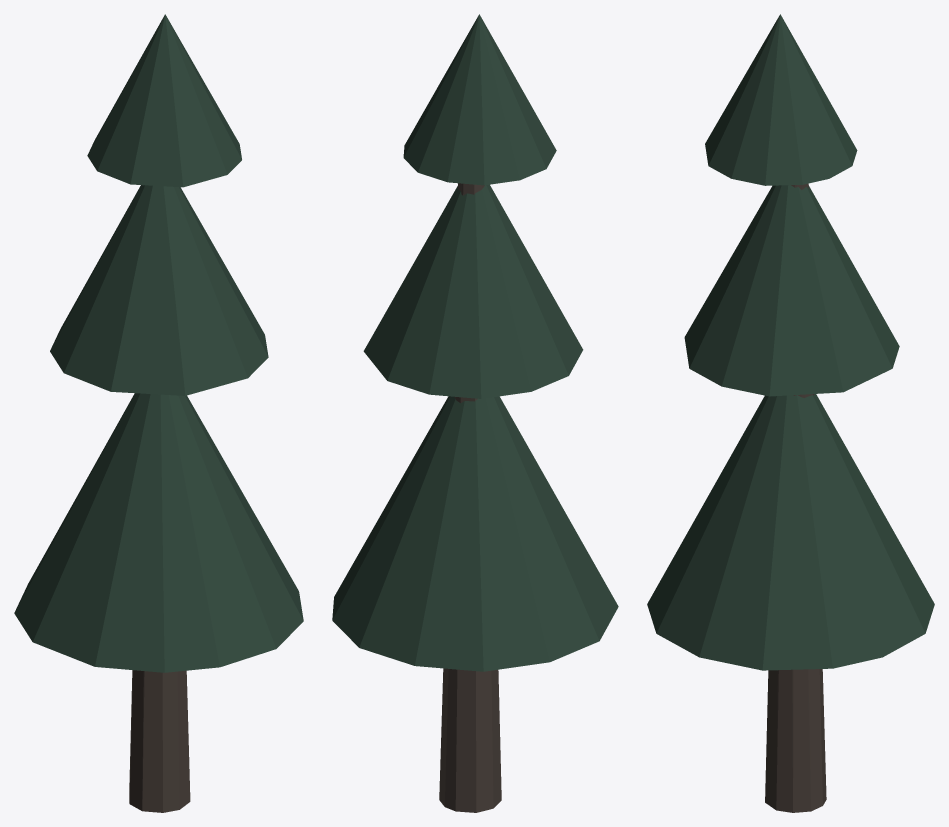
The model's file is tree18.fbx.
The picture shows the model from 3 angles, left to right: view 1: azimuth 30°, elevation 25°; view 2: azimuth 150°, elevation 25°; view 3: azimuth 270°, elevation 25°; orthographic projection.
Visible parts, largest first — view 1: treetype18; view 2: treetype18; view 3: treetype18.
Boxes of the visible parts, bbox=[...] form: treetype18: bbox=[14, 14, 303, 812]; treetype18: bbox=[332, 14, 618, 812]; treetype18: bbox=[647, 14, 934, 812].
Size of the model in its own units: 50.33 by 151 by 50.19.
